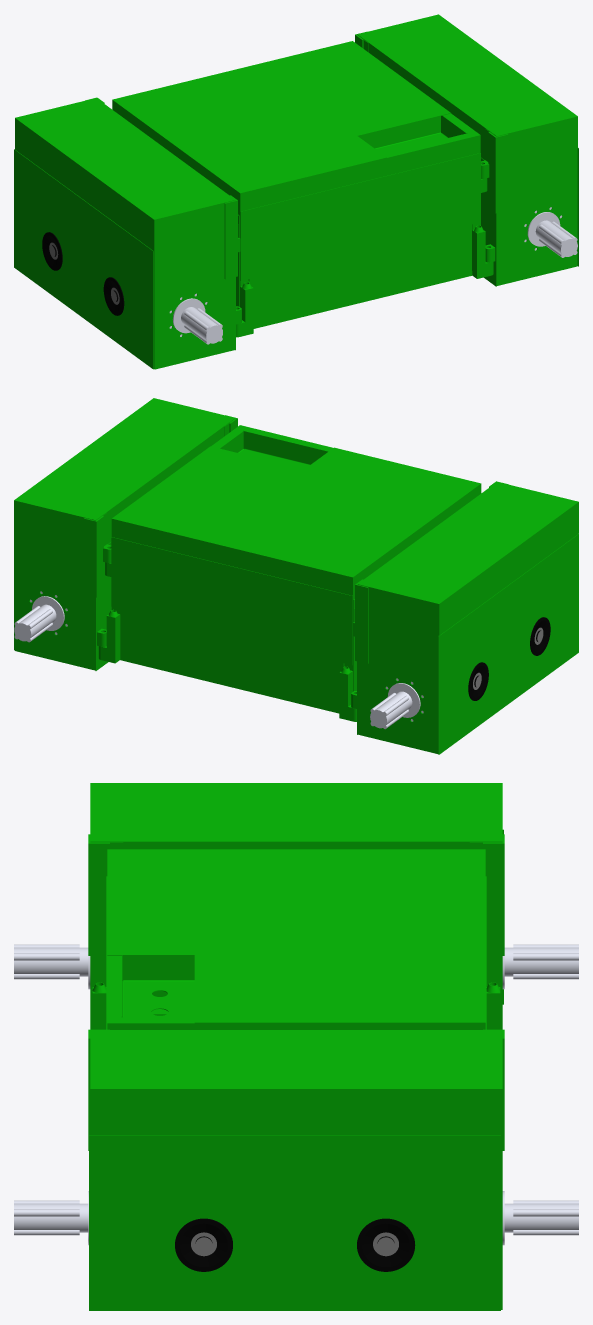
File: Body closed.fbx
The picture shows the model from 3 angles, top to bottom: view 1: azimuth 30°, elevation 25°; view 2: azimuth 150°, elevation 25°; view 3: azimuth 270°, elevation 25°; orthographic projection. The views are drawn at different scales.
Visible parts, largest first — view 1: Body_closed.002; view 2: Body_closed.002; view 3: Body_closed.002.
Boxes of the visible parts, x1=… form: Body_closed.002: x1=14, y1=14, x2=578, y2=369; Body_closed.002: x1=14, y1=398, x2=578, y2=754; Body_closed.002: x1=14, y1=783, x2=578, y2=1310.
Bounding box in the file's own units: 100 × 33.7 × 77.6.
